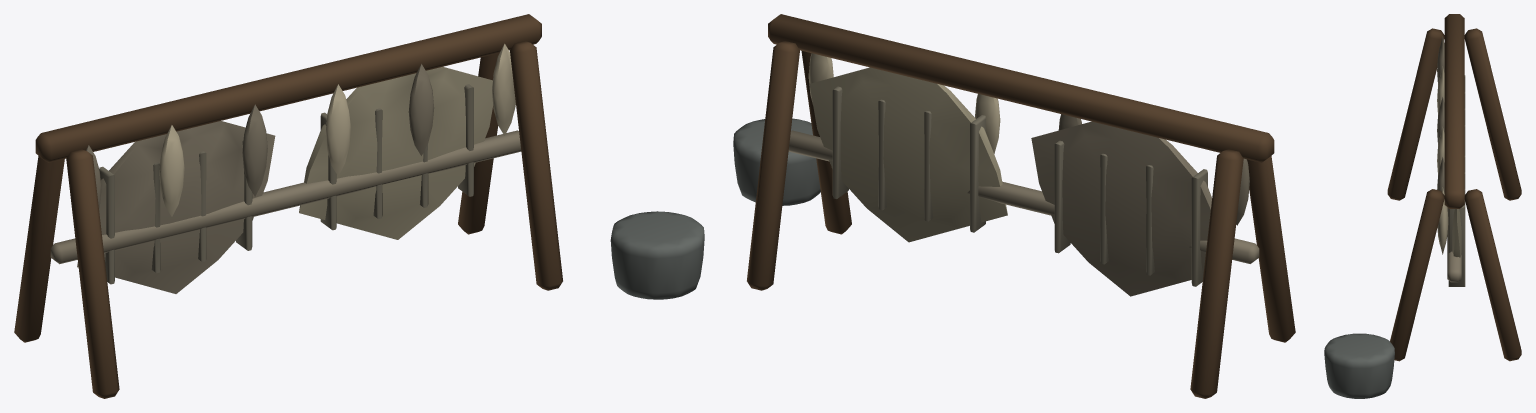
File: fish_rack_a.glb
3 views of the same model, side by side, from view 1: azimuth 30°, elevation 25°; view 2: azimuth 150°, elevation 25°; view 3: azimuth 270°, elevation 25° (orthographic). The views are drawn at different scales.
Parts seen in each view (by area): view 1: Surface; view 2: Surface; view 3: Surface.
Boxes of the visible parts, bbox=[...] form: Surface: bbox=[14, 14, 704, 398]; Surface: bbox=[733, 14, 1295, 398]; Surface: bbox=[1324, 14, 1521, 398].
Size of the model in its own units: 4.29 by 1.64 by 1.66.
